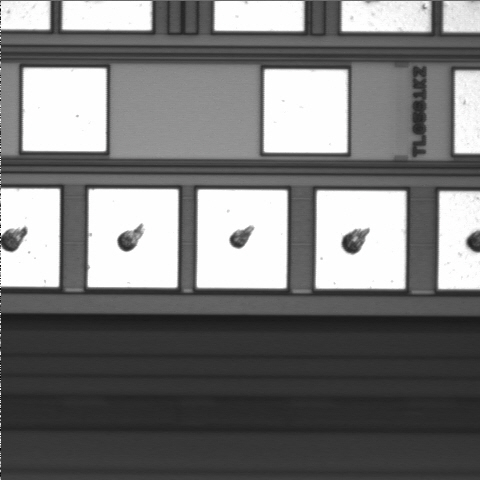pad: (88, 189, 178, 288), (197, 189, 287, 288), (316, 190, 406, 289), (264, 69, 348, 153), (23, 68, 106, 151)
